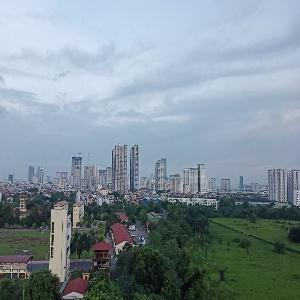drone: (201, 256, 241, 296)
